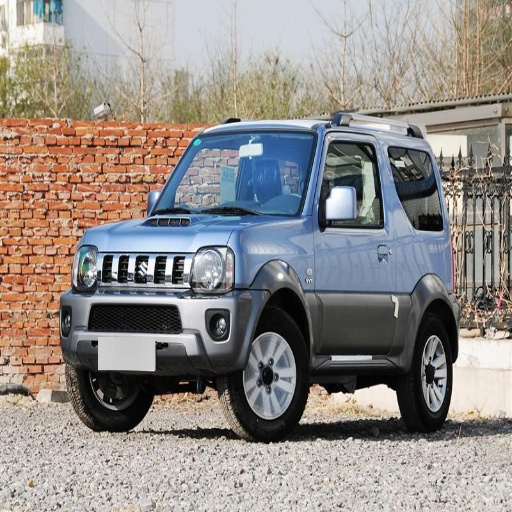front_bumper: (59, 247, 264, 375)
front_glass: (154, 131, 317, 215)
front_left_door: (315, 134, 396, 351)
trunk: (388, 233, 456, 347)
